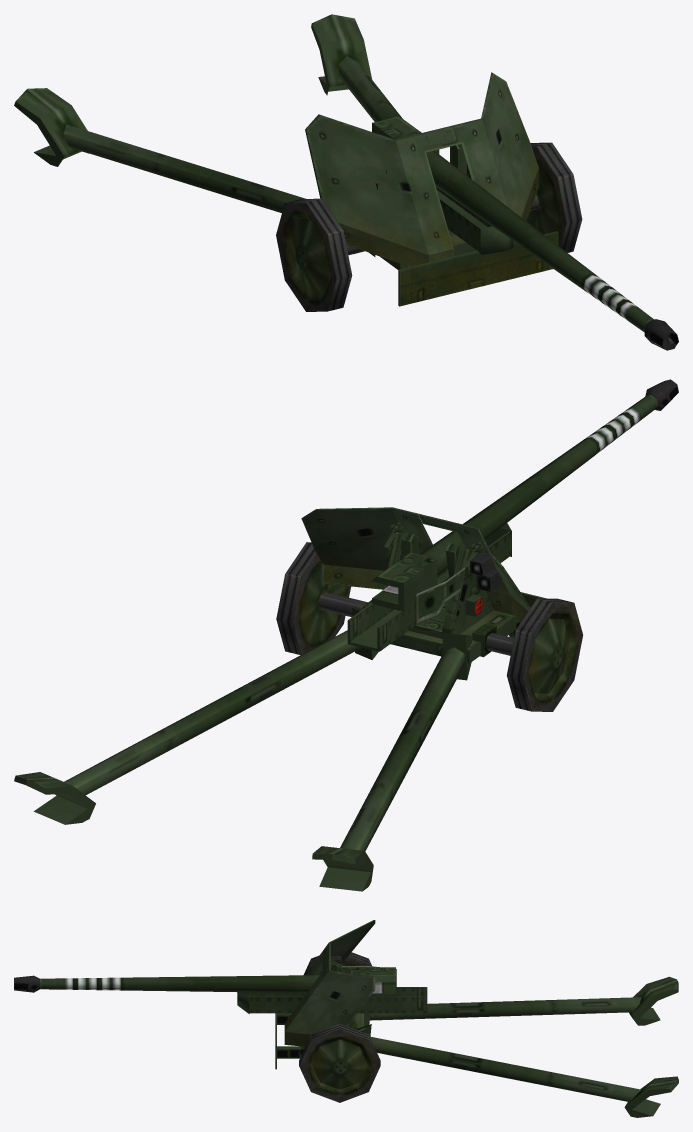
File: GERPaK40.dae
The picture shows the model from 3 angles, top to bottom: view 1: azimuth 30°, elevation 25°; view 2: azimuth 150°, elevation 25°; view 3: azimuth 270°, elevation 25°; orthographic projection. The views are drawn at different scales.
Visible parts, largest first — view 1: turret, carriage, wheels, barrel, sleeve; view 2: carriage, turret, wheels, barrel, sleeve; view 3: carriage, turret, barrel, wheels, sleeve.
Boxes of the visible parts, x1=… form: turret: x1=305, y1=72, x2=538, y2=266; carriage: x1=14, y1=14, x2=558, y2=306; wheels: x1=276, y1=142, x2=582, y2=311; barrel: x1=372, y1=116, x2=678, y2=350; sleeve: x1=436, y1=187, x2=513, y2=254; carriage: x1=14, y1=592, x2=546, y2=891; turret: x1=301, y1=507, x2=530, y2=638; wheels: x1=276, y1=542, x2=582, y2=711; barrel: x1=371, y1=379, x2=678, y2=611; sleeve: x1=347, y1=523, x2=511, y2=651; carriage: x1=275, y1=976, x2=678, y2=1117; turret: x1=284, y1=920, x2=396, y2=1046; barrel: x1=14, y1=967, x2=395, y2=996; wheels: x1=299, y1=952, x2=380, y2=1102; sleeve: x1=237, y1=987, x2=427, y2=1014.
Bounding box in the file's own units: 21.34 × 53.38 × 10.44.
Materials: 1 (1 with a texture image).
